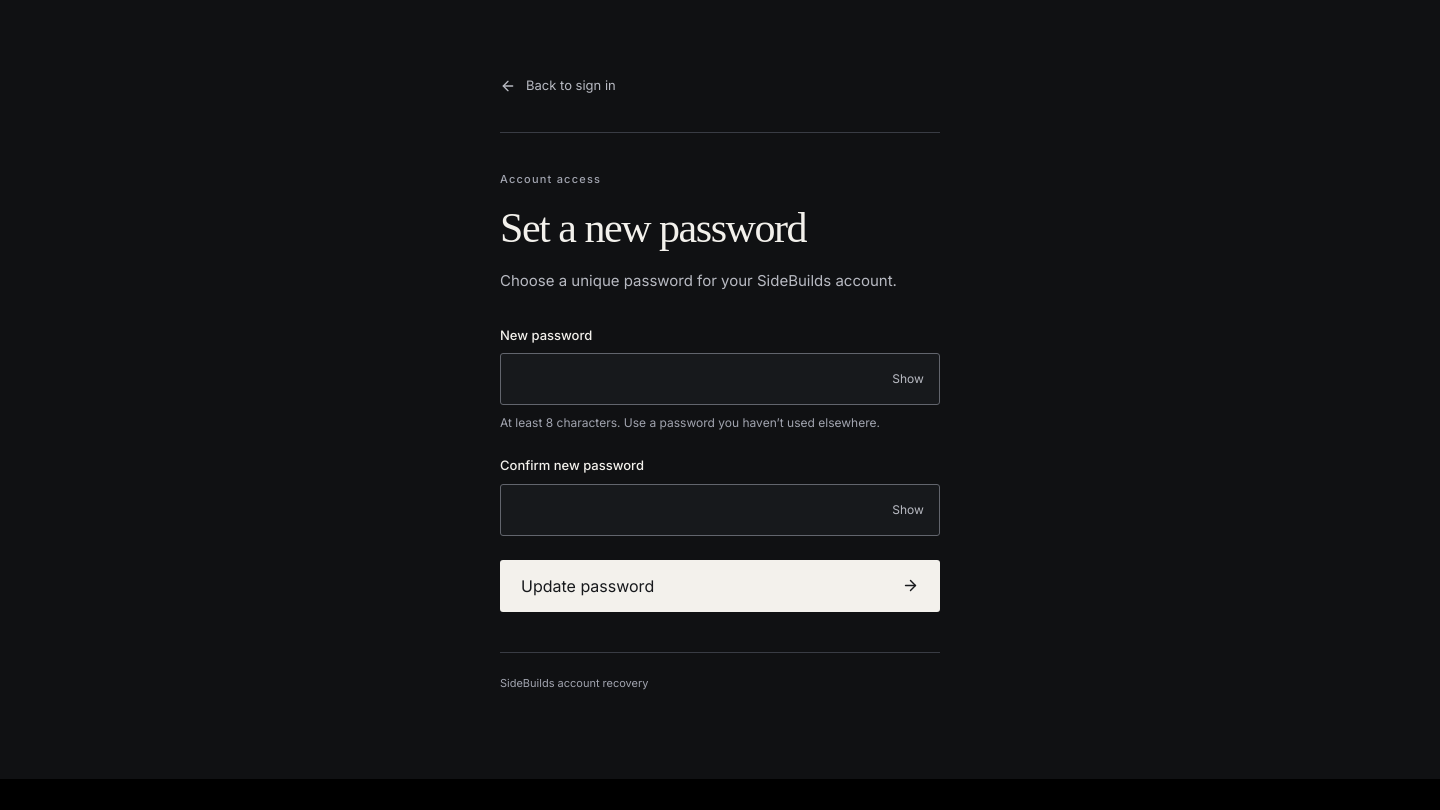
success clears passwords and offers sign-in
This screenshot has width=1440, height=810.
Type "Synthetic-password-2026!" into the password field labelled "New password" at (720,379), box [500,353,940,405]
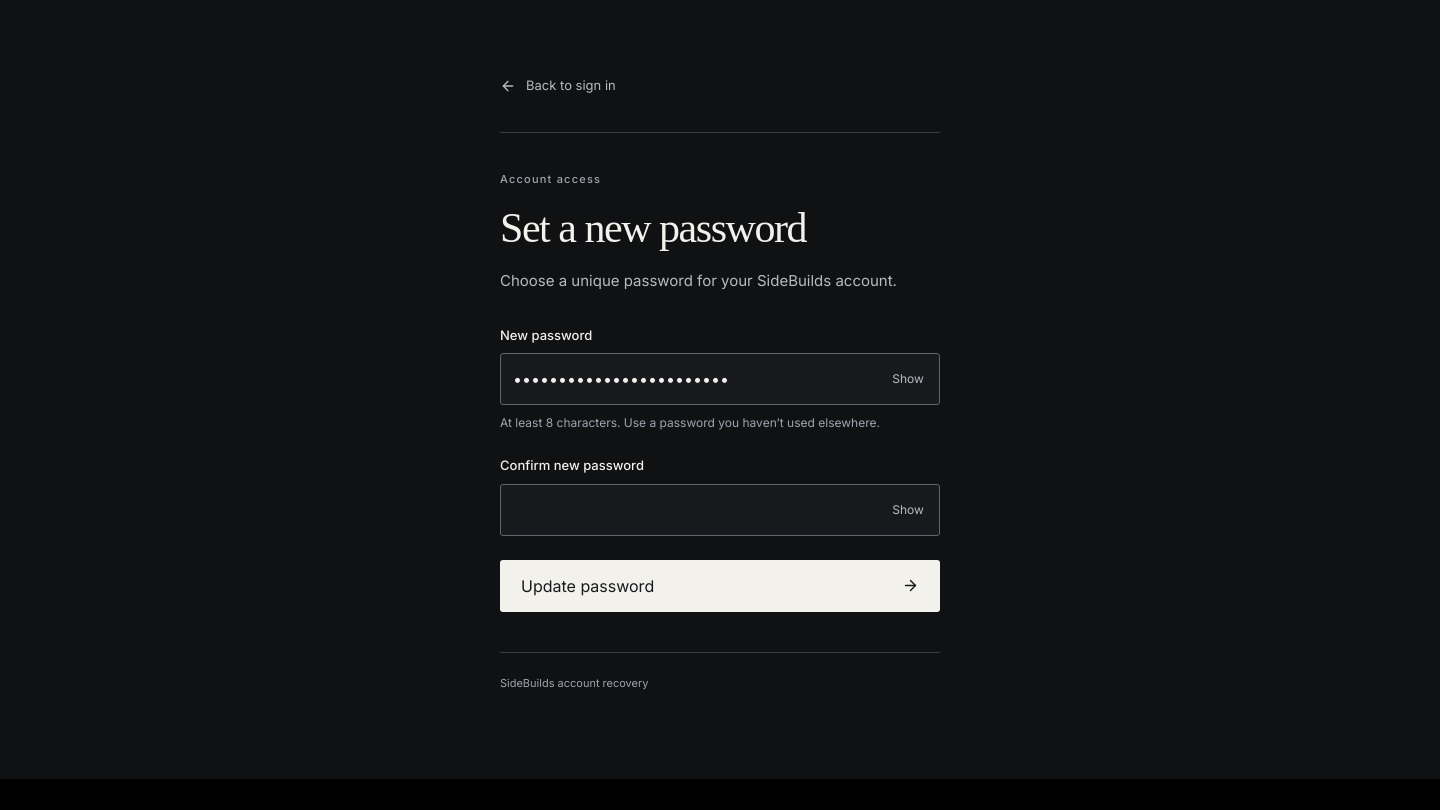
Type "Synthetic-password-2026!" into the password field labelled "Confirm new password" at (720,510), box [500,484,940,536]
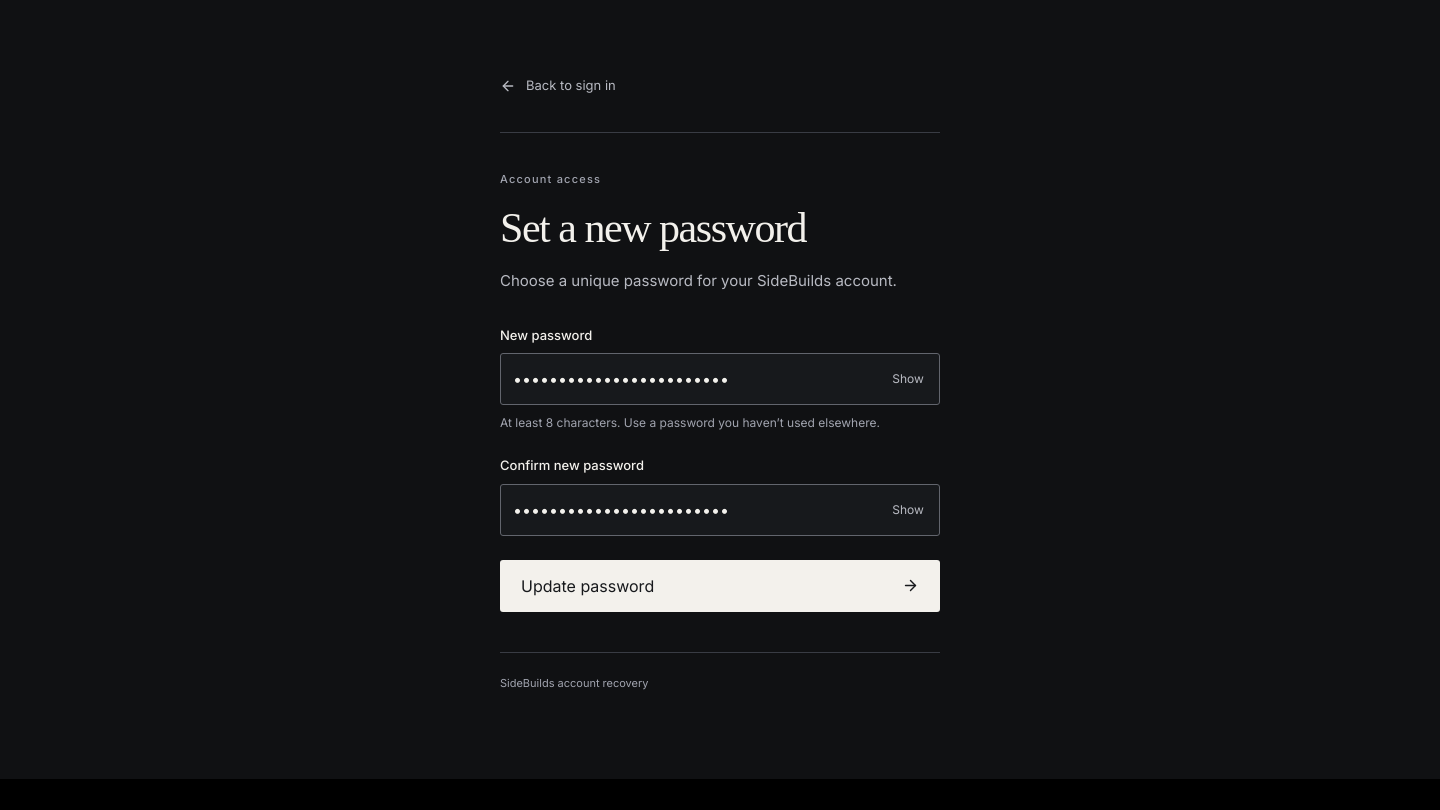
Click the button "Update password" at (588,586), box [500,560,940,612]
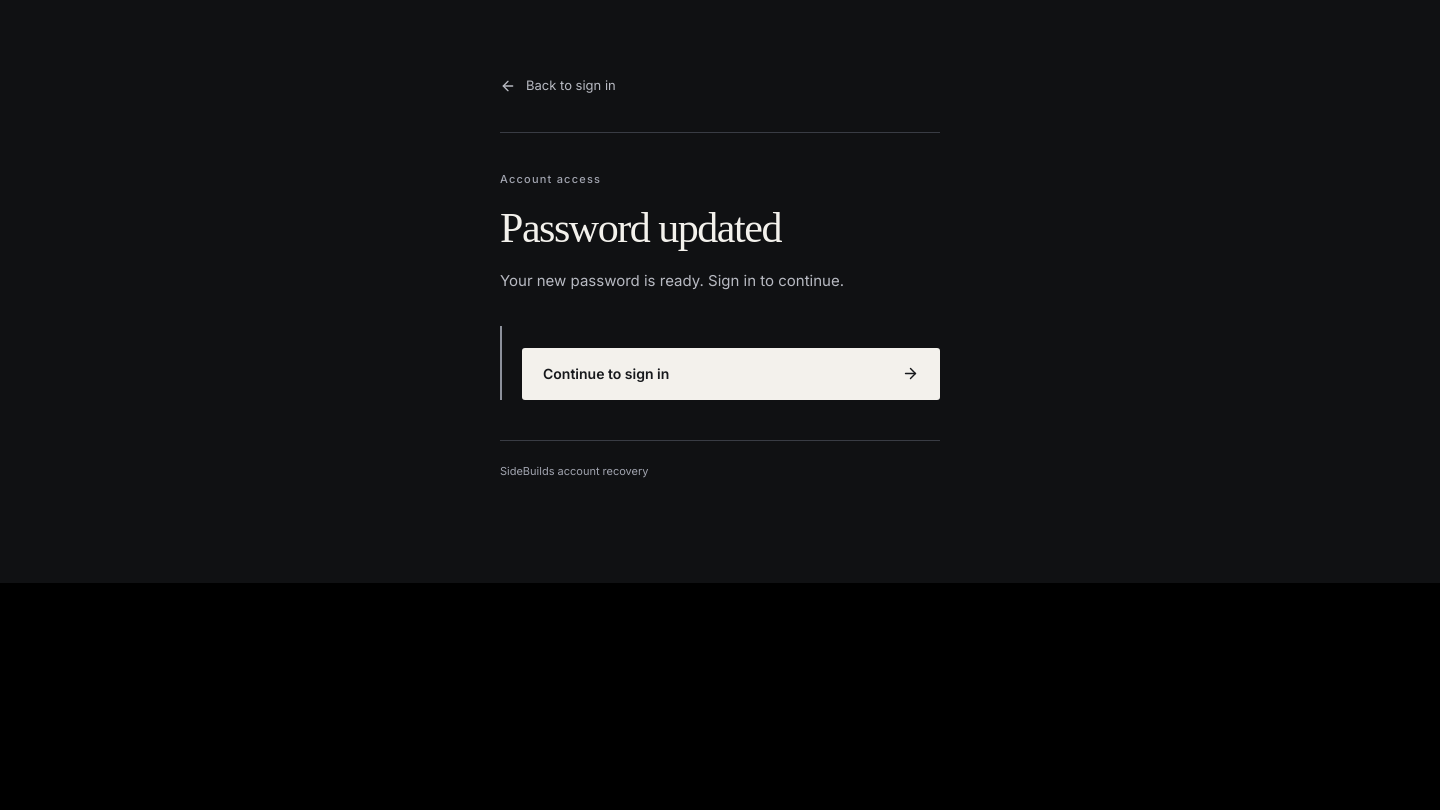
Result: the heading "Password updated" is shown at [500,205,815,252]
